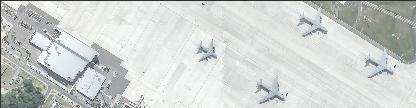C17: (254, 73, 284, 101), (296, 6, 326, 34), (364, 47, 392, 75)
C2: (194, 38, 216, 58)
